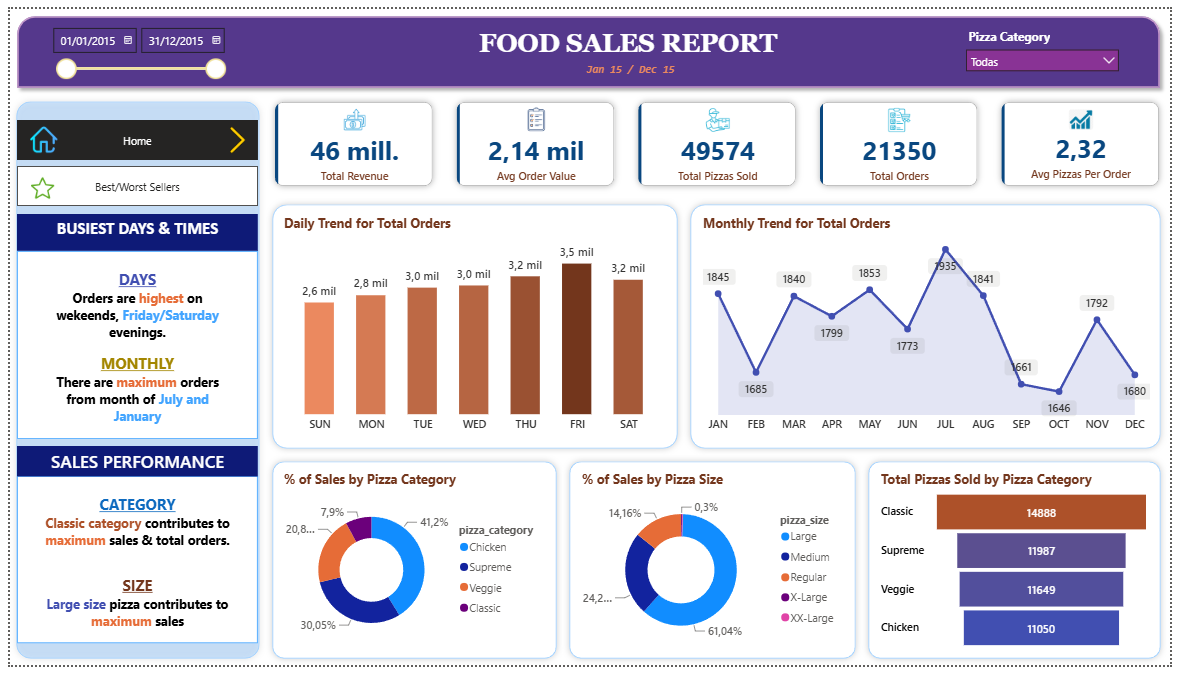

What the dashboard file says about the page in this screenshot:
{"tool":"powerbi","page":{"name":"Home","canvas":[1451,820],"ordinal":0},"visuals":[{"type":"cardVisual","fields":{"Data":["pizza_sales.Total Revenue","pizza_sales.Avg Order Value","pizza_sales.Total Pizzas Sold","pizza_sales.Total Orders","pizza_sales.Avg Pizzas Per Order"]},"box":[306,91.2,1156.2,155],"z":0},{"type":"shape","box":[0,0,1446.2,107.5],"z":1000},{"type":"textbox","box":[581.2,20,392.5,55],"z":2000},{"type":"textbox","box":[710,61.2,131.2,35],"z":3000},{"type":"shape","box":[320,236.2,522.5,321.2],"z":4000},{"type":"columnChart","title":"Daily Trend for Total Orders","fields":{"Y":["pizza_sales.Total Orders"],"Category":["pizza_sales.Order Day"]},"box":[337.5,256.2,486.2,281.2],"z":5000},{"type":"shape","box":[842.5,236.2,603.8,321.2],"z":6000},{"type":"areaChart","title":"Monthly Trend for Total Orders","fields":{"Y":["pizza_sales.Total Orders"],"Category":["pizza_sales.Order Month"]},"box":[861.2,256.2,568.8,281.2],"z":7000},{"type":"shape","box":[320,557.5,371.2,262.5],"z":8000},{"type":"shape","box":[691.2,557.5,373.8,262.5],"z":9000},{"type":"shape","box":[1065,557.5,381.2,262.5],"z":10000},{"type":"donutChart","title":"% of Sales by Pizza Category","fields":{"Category":["pizza_sales.pizza_category"],"Y":["pizza_sales.Total Revenue"]},"box":[337.5,576.2,337.5,228.8],"z":11000},{"type":"donutChart","title":"% of Sales by Pizza Size","fields":{"Y":["pizza_sales.Total Revenue"],"Category":["pizza_sales.pizza_size"]},"box":[710,576.2,337.5,228.8],"z":12000},{"type":"shape","box":[0,107.5,320,712.5],"z":13000},{"type":"funnel","title":"Total Pizzas Sold by Pizza Category","fields":{"Y":["pizza_sales.Total Pizzas Sold"],"Category":["pizza_sales.pizza_category"]},"box":[1083.8,576.2,346.2,228.8],"z":14000},{"type":"textbox","box":[8.8,256.2,301.2,46.2],"z":15000},{"type":"textbox","box":[8.8,302.5,301.2,235],"z":16000},{"type":"textbox","box":[8.8,583.8,301.2,208.8],"z":17000},{"type":"textbox","box":[8.8,546.2,301.2,37.5],"z":18000},{"type":"slicer","fields":{"Values":["pizza_sales.pizza_category"]},"box":[1185,18.8,211.2,68.8],"z":19000},{"type":"slicer","fields":{"Values":["pizza_sales.order_date"]},"box":[41.2,13.8,236.2,82.5],"z":20000},{"type":"pageNavigator","box":[8.8,139,301.2,50],"z":21000},{"type":"pageNavigator","box":[8.8,196.2,301.2,50],"z":22000},{"type":"image","box":[267.5,141.2,33.8,45],"z":23000},{"type":"image","box":[11,146.2,61.2,33.8],"z":24000},{"type":"image","box":[26.2,188.8,28.8,70],"z":25000}]}

Visuals, with their boxes in screenshot pixels (x1, y1, x2, y2), scaled from the page's 1451x820 canvas onto the 1182x675 screenshot:
cardVisual - pizza_sales.Total Revenue x pizza_sales.Avg Order Value: [249, 75, 1181, 203]
shape: [0, 0, 1178, 88]
textbox: [473, 16, 793, 62]
textbox: [578, 50, 685, 79]
shape: [261, 194, 686, 459]
"Daily Trend for Total Orders" columnChart: [275, 211, 671, 442]
shape: [686, 194, 1178, 459]
"Monthly Trend for Total Orders" areaChart: [702, 211, 1165, 442]
shape: [261, 459, 563, 674]
shape: [563, 459, 868, 674]
shape: [868, 459, 1178, 674]
"% of Sales by Pizza Category" donutChart: [275, 474, 550, 663]
"% of Sales by Pizza Size" donutChart: [578, 474, 853, 663]
shape: [0, 88, 261, 674]
"Total Pizzas Sold by Pizza Category" funnel: [883, 474, 1165, 663]
textbox: [7, 211, 253, 249]
textbox: [7, 249, 253, 442]
textbox: [7, 481, 253, 652]
textbox: [7, 450, 253, 480]
slicer - pizza_sales.pizza_category: [965, 15, 1137, 72]
slicer - pizza_sales.order_date: [34, 11, 226, 79]
pageNavigator: [7, 114, 253, 156]
pageNavigator: [7, 162, 253, 203]
image: [218, 116, 245, 153]
image: [9, 120, 59, 148]
image: [21, 155, 45, 213]
